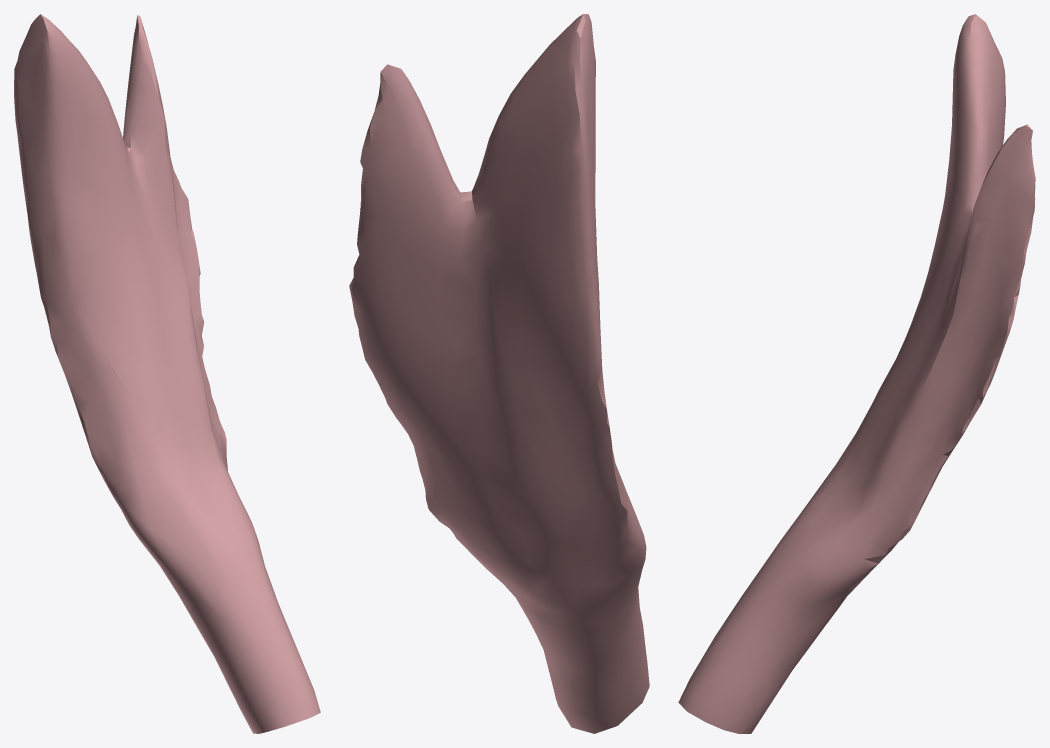
The model's file is fma46148_mm1960m.glb.
3 views of the same model, side by side, from view 1: azimuth 30°, elevation 25°; view 2: azimuth 150°, elevation 25°; view 3: azimuth 270°, elevation 25° (orthographic). The views are drawn at different scales.
Parts seen in each view (by area): view 1: FMA46148_MM1960M; view 2: FMA46148_MM1960M; view 3: FMA46148_MM1960M.
Part boxes in pixels (x1,y1,x2,y2): FMA46148_MM1960M: [14, 14, 320, 733]; FMA46148_MM1960M: [349, 14, 649, 733]; FMA46148_MM1960M: [678, 14, 1035, 733].
Size of the model in its own units: 0.0111 by 0.0394 by 0.0192.
